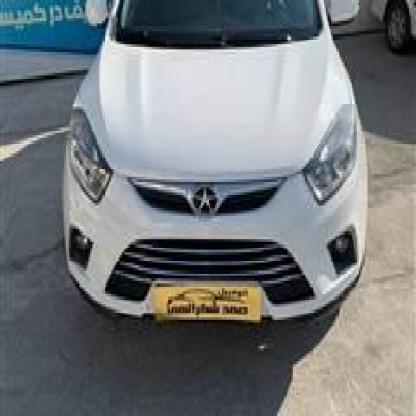Car: (53, 0, 367, 361), (367, 0, 415, 49)
